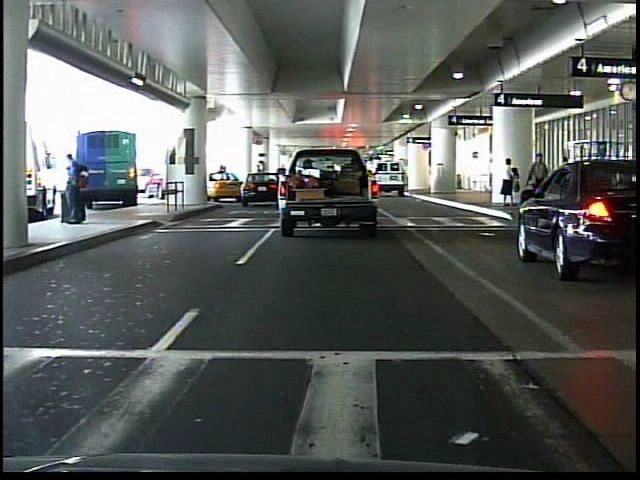person: (60, 147, 93, 234), (527, 148, 552, 213), (498, 155, 522, 209)
